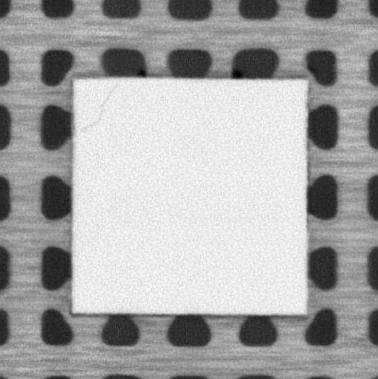DIE_CRACK: (81, 82, 118, 130)
